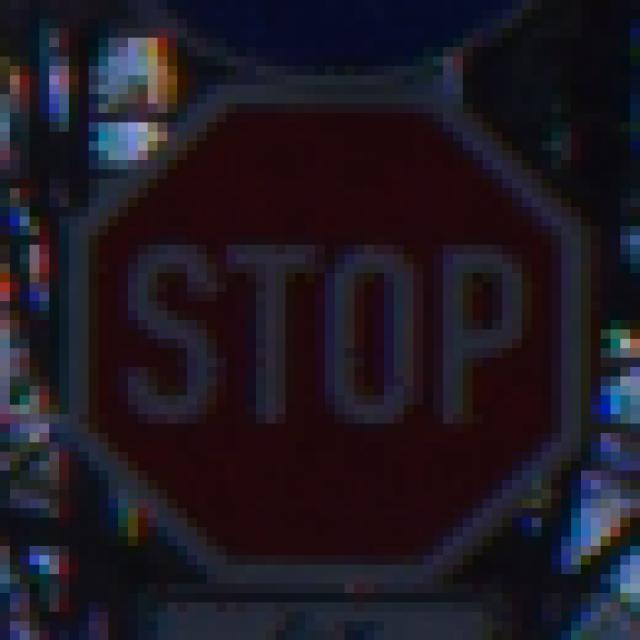STOP: (60, 67, 592, 584)
